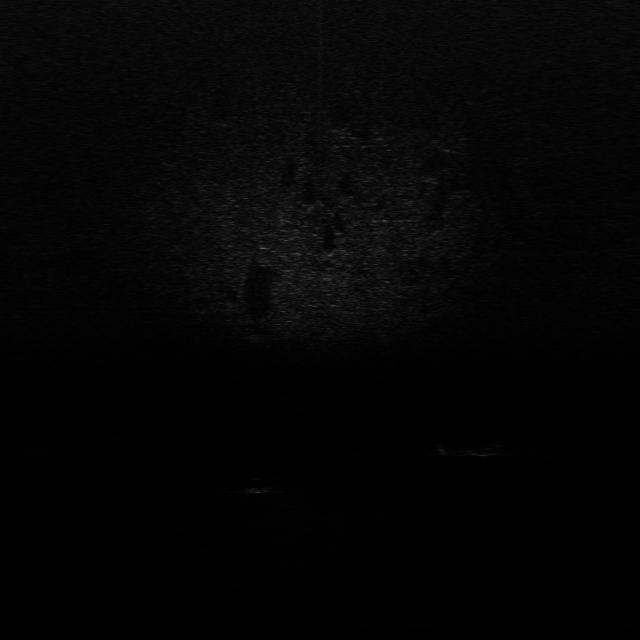ball: (242, 478, 276, 497)
human body: (424, 440, 507, 460)
